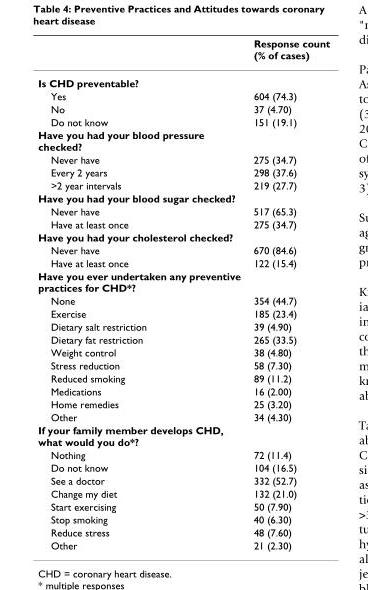table: (37, 36, 329, 550)
table column: (37, 36, 246, 550), (246, 36, 329, 550)
table column header: (37, 36, 329, 68)
table projected row header: (37, 128, 329, 152), (37, 269, 329, 293), (37, 423, 329, 447), (37, 68, 329, 89), (37, 191, 329, 204), (37, 230, 329, 243)
table row: (37, 36, 329, 68), (37, 128, 329, 152), (37, 269, 329, 293), (37, 423, 329, 447), (37, 68, 329, 89), (37, 89, 329, 102), (37, 102, 329, 115), (37, 115, 329, 128), (37, 152, 329, 165), (37, 165, 329, 178), (37, 178, 329, 191), (37, 191, 329, 204), (37, 204, 329, 217), (37, 217, 329, 230), (37, 230, 329, 243), (37, 243, 329, 256), (37, 256, 329, 269), (37, 293, 329, 306), (37, 306, 329, 319), (37, 319, 329, 332), (37, 332, 329, 345), (37, 345, 329, 358), (37, 358, 329, 371), (37, 371, 329, 384), (37, 384, 329, 397), (37, 397, 329, 410), (37, 410, 329, 423), (37, 447, 329, 460), (37, 460, 329, 473), (37, 473, 329, 486), (37, 486, 329, 499), (37, 499, 329, 512), (37, 512, 329, 525), (37, 525, 329, 538), (37, 538, 329, 550)
